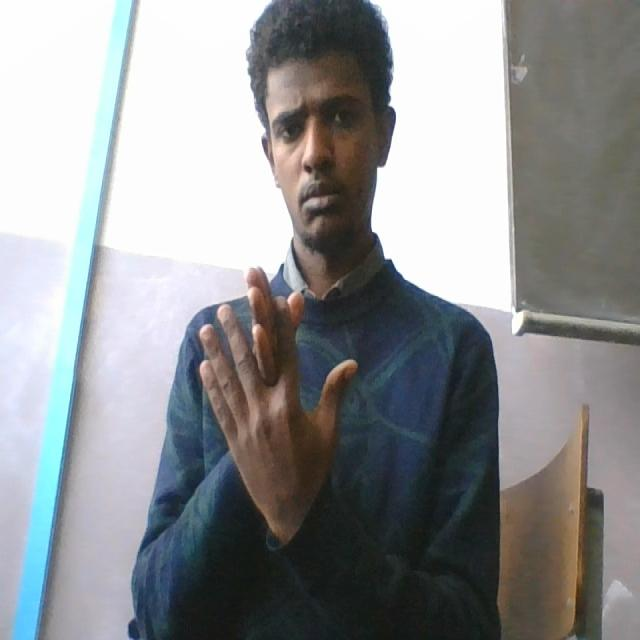bekul: (193, 261, 361, 556)
